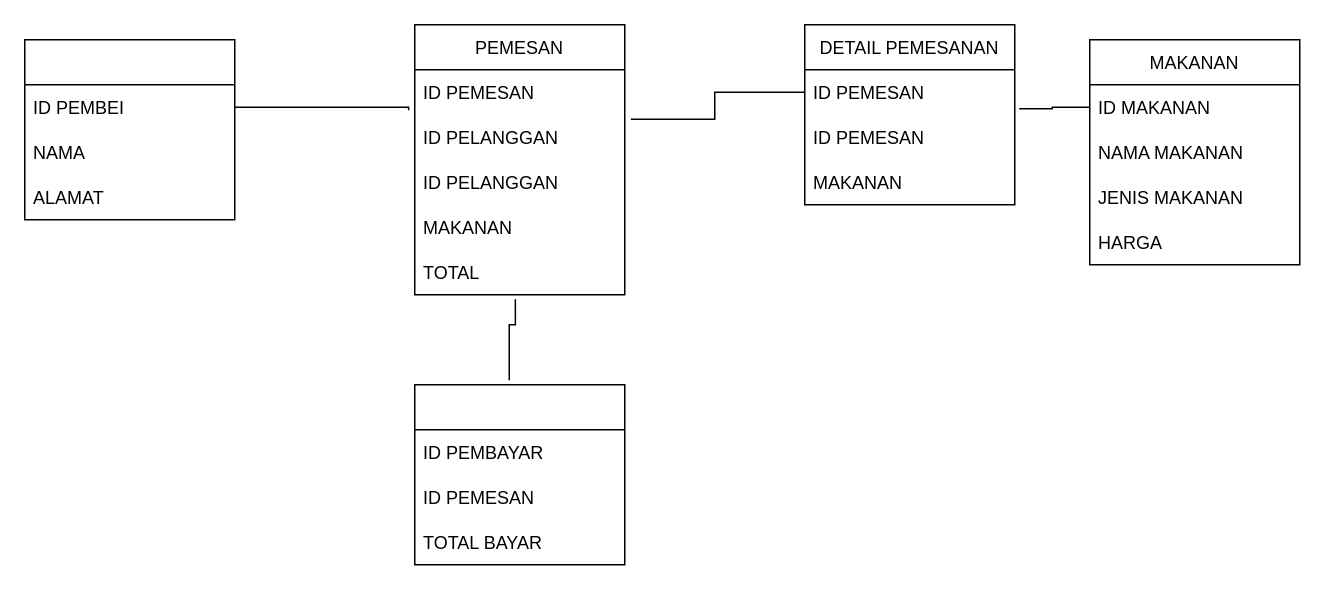
The diagram is 1325 pixels wide and 590 high, and some of its shapes have lost their labels. The shapes that lost their labels are listed below. From the top down, each one's box as (x1, y1, x2, y2) in pixels, then its label:
(23, 38, 235, 220): PELANGGAN
(413, 383, 625, 565): STRUK PEMBAYARAN
